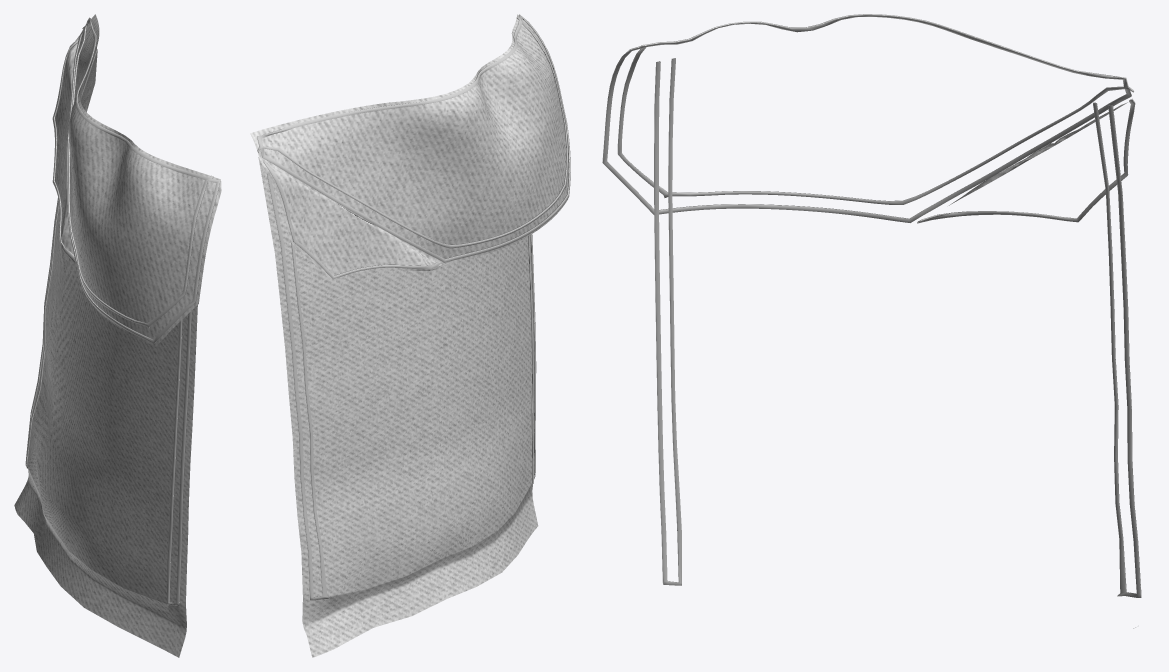
Rendered from Pocket_Left_V2.glb.
The picture shows the model from 3 angles, left to right: view 1: azimuth 30°, elevation 25°; view 2: azimuth 150°, elevation 25°; view 3: azimuth 270°, elevation 25°; orthographic projection. The views are drawn at different scales.
Visible parts, largest first — view 1: Pocket_Left_V21, Rope1; view 2: Pocket_Left_V21, Rope1; view 3: Rope1.
Part boxes in pixels (left/top/right/bottom): Pocket_Left_V21: left=14, top=14, right=221, bottom=657; Rope1: left=25, top=17, right=220, bottom=605; Pocket_Left_V21: left=250, top=14, right=568, bottom=657; Rope1: left=257, top=14, right=570, bottom=600; Rope1: left=602, top=14, right=1141, bottom=597.
Size of the model in its own units: 0.0779 by 0.2704 by 0.2151.
2 materials, 2 textured.
